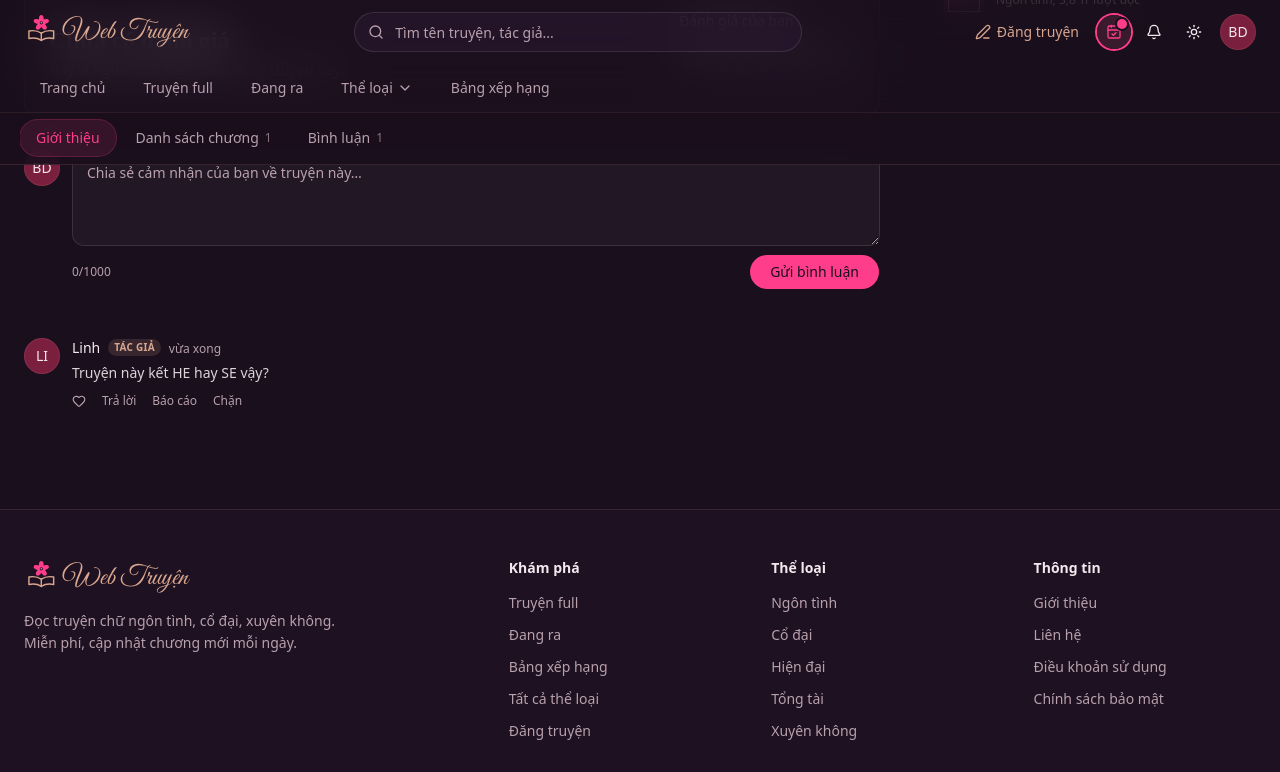
trả lời bình luận: nhóm trả lời tự mở, thu gọn được, trả lời tiếp thì nhắc tên
The width and height of the screenshot is (1280, 772).
(page scrolled)
Expected: the button "Báo cáo" is shown, left=152, top=389, right=197, bottom=413
Expected: the button "Xóa" is not shown
Click the button "Trả lời". click: [119, 401]
box: left=102, top=389, right=136, bottom=413
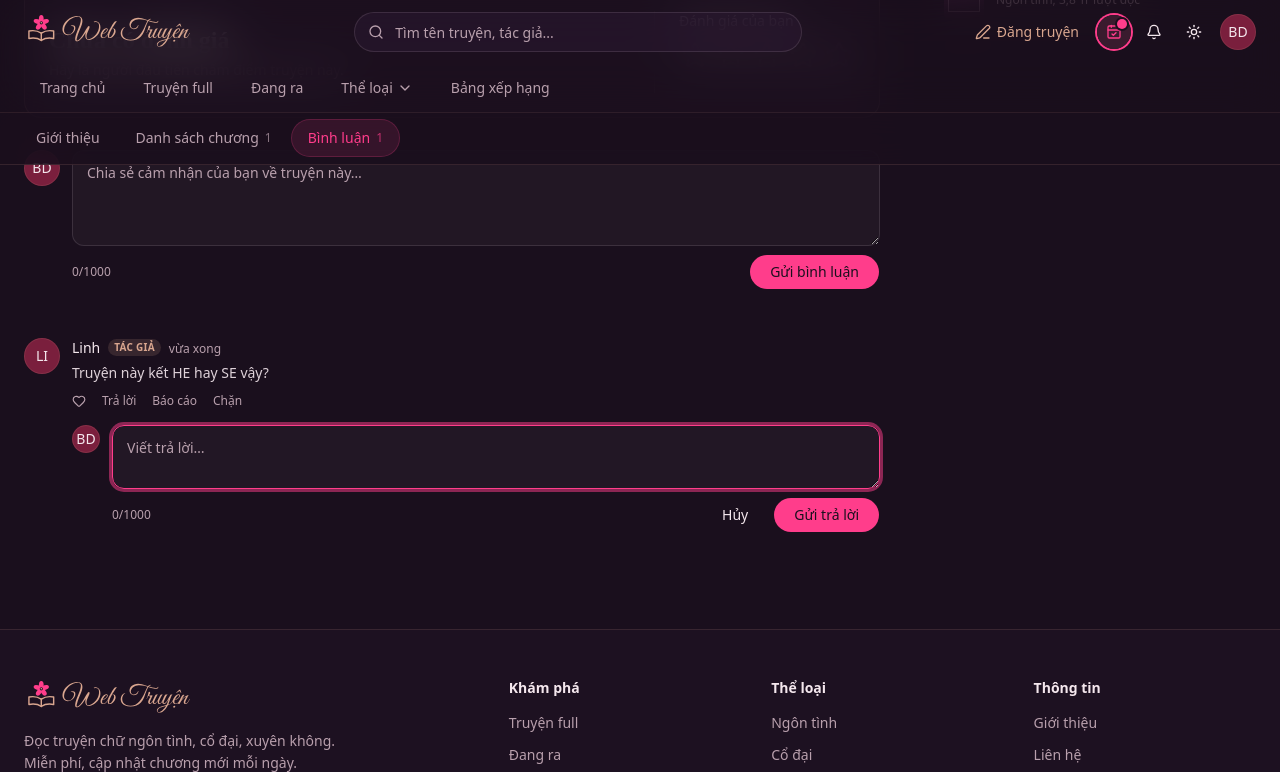
Type "HE nha bạn" into the text box labelled "Viết trả lời". click: [496, 457]
box: left=112, top=425, right=880, bottom=489
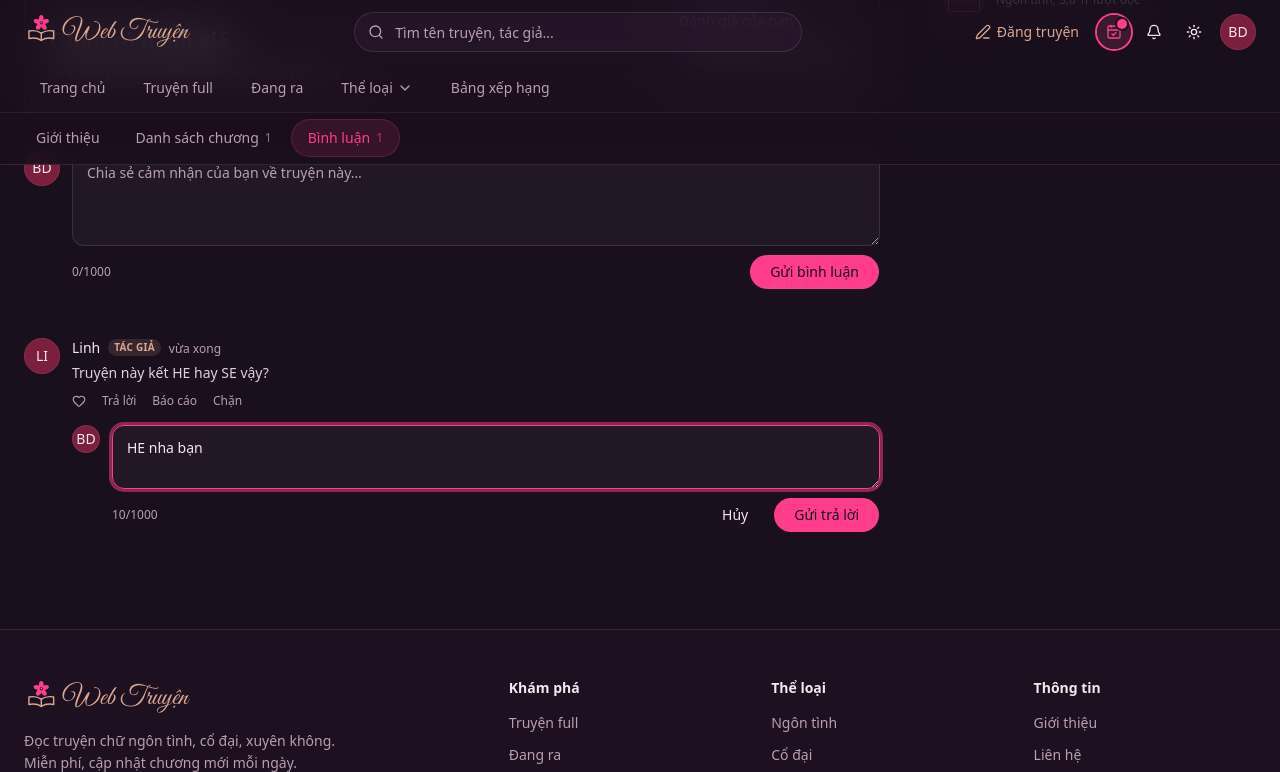
Click the button "Gửi trả lời". click: [827, 515]
box: left=773, top=497, right=880, bottom=533
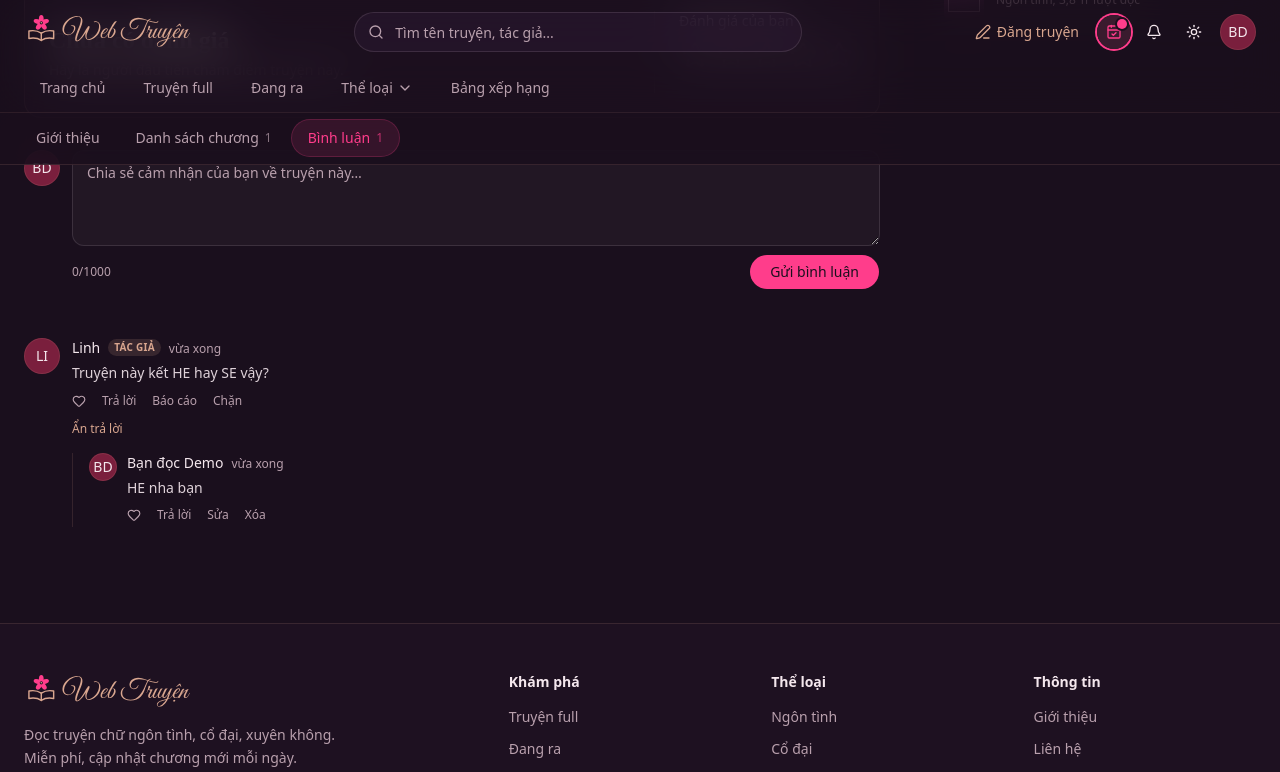
Expected: the field labelled "Viết trả lời" is not shown
Now the text "HE nha bạn" is shown, box left=127, top=478, right=203, bottom=497
Click the button "Ẩn trả lời". click: [97, 429]
box: left=72, top=417, right=123, bottom=441
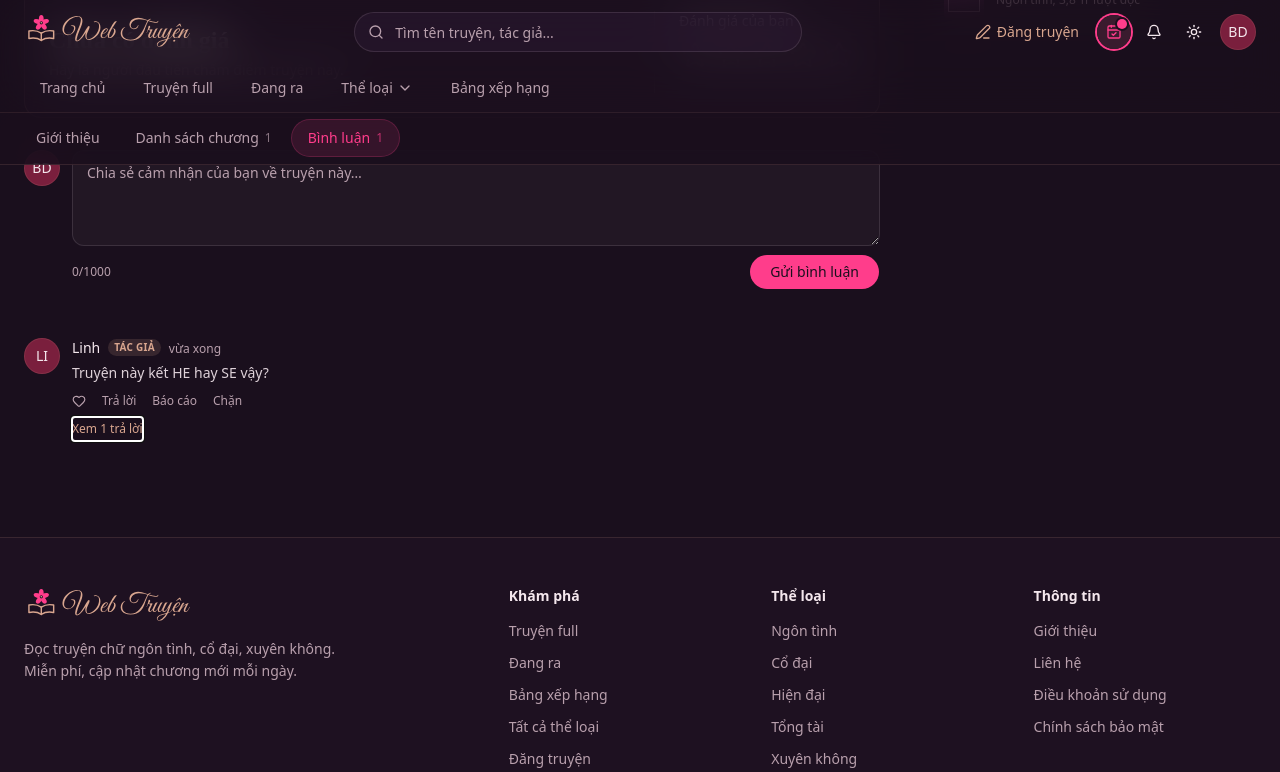
Now the text "HE nha bạn" is gone
Click the button "Xem 1 trả lời". click: [107, 429]
box: left=72, top=417, right=143, bottom=441
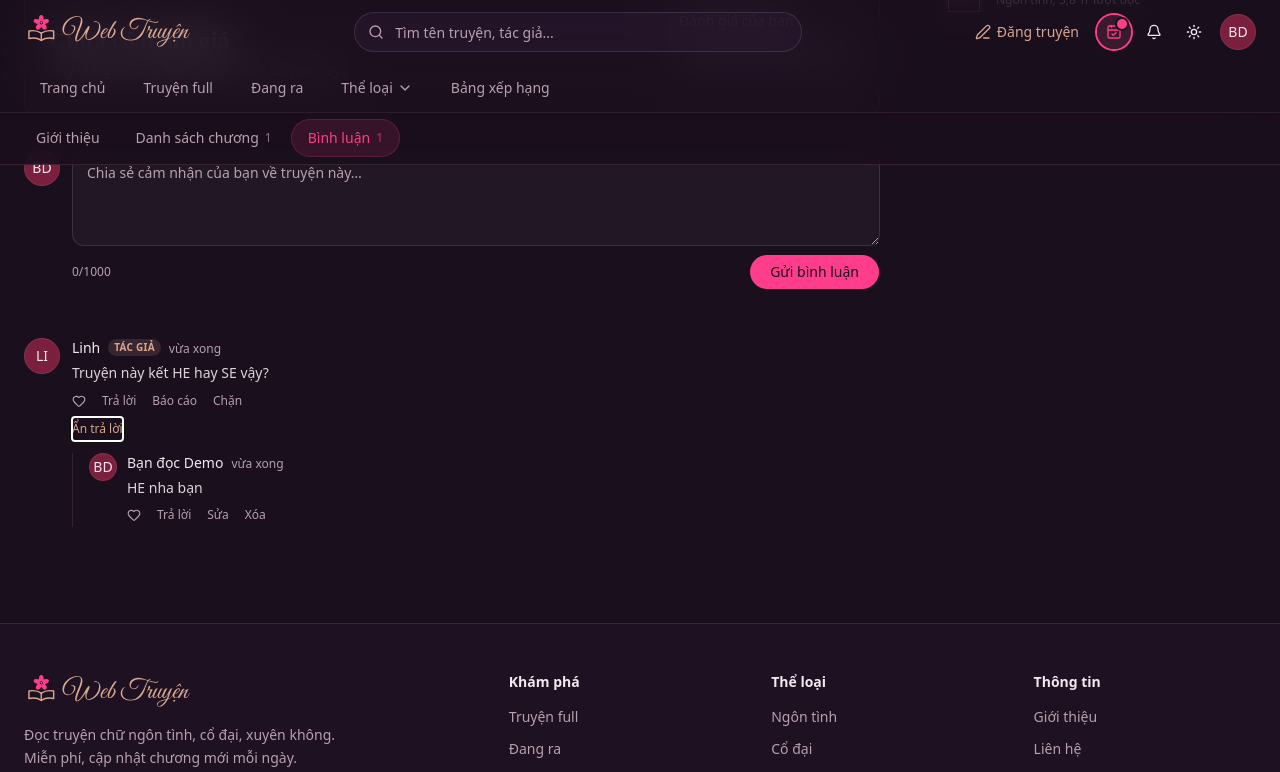
// Trả lời một câu trả lời: vẫn vào nhóm của bình luận gốc, ô nhập nhắc tên người được trả lời
Click the button "Trả lời" below "HE nha bạn". click: [174, 515]
box: left=157, top=503, right=191, bottom=527
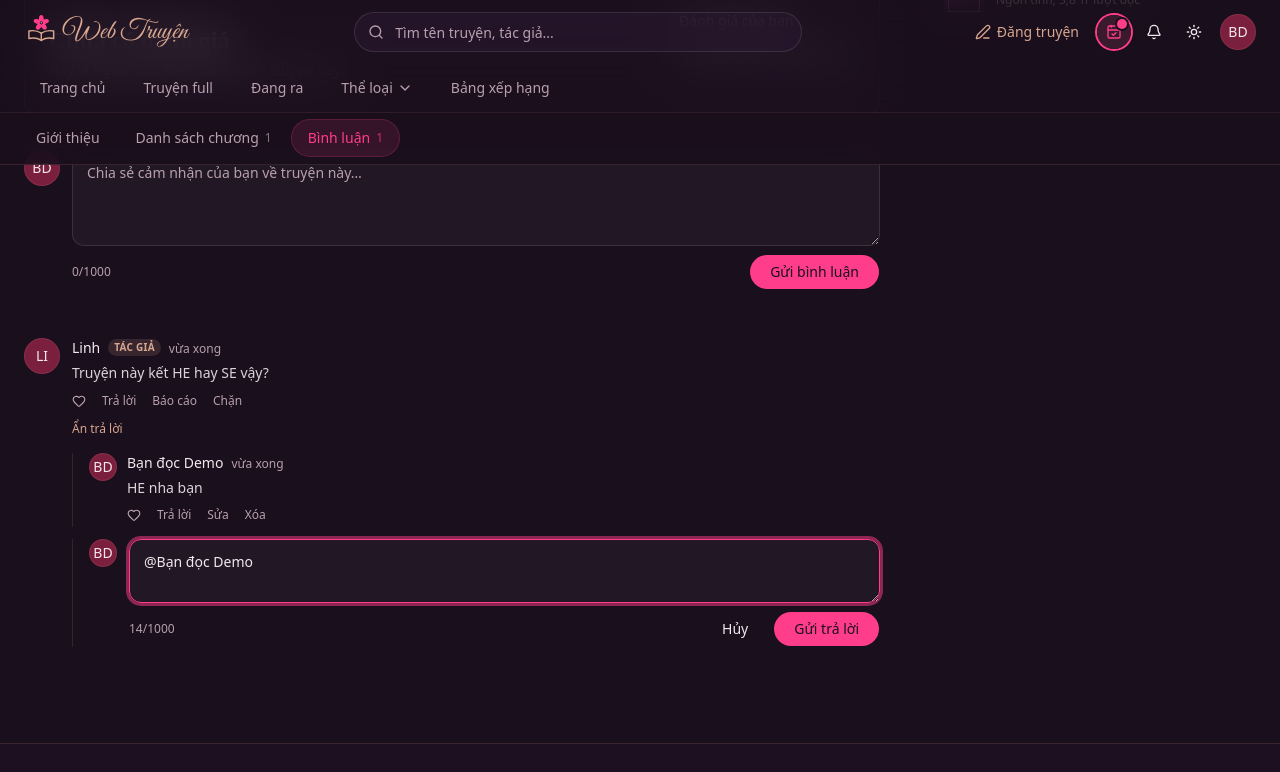
Now the text box named "Viết trả lời" holds "@Bạn đọc Demo ", box left=129, top=539, right=880, bottom=603
